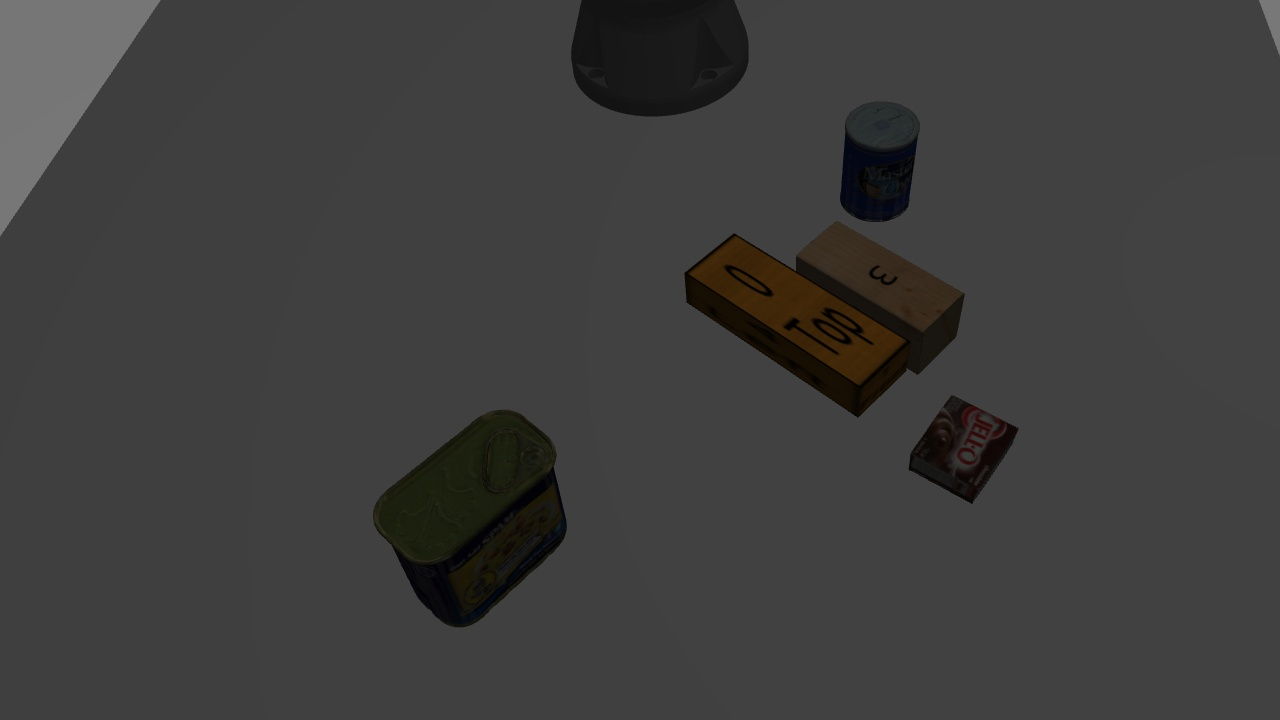jenga: (676, 229, 909, 421)
master_chef_can: (837, 101, 922, 224)
potted_meat_can: (369, 408, 568, 628)
pudding_box: (903, 393, 1019, 503)
wood_block: (788, 204, 965, 383)
